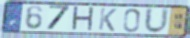0: (122, 7, 142, 33)
6: (25, 6, 44, 31)
7: (47, 4, 72, 33)
H: (71, 5, 96, 33)
K: (97, 7, 118, 32)
U: (143, 6, 171, 35)
